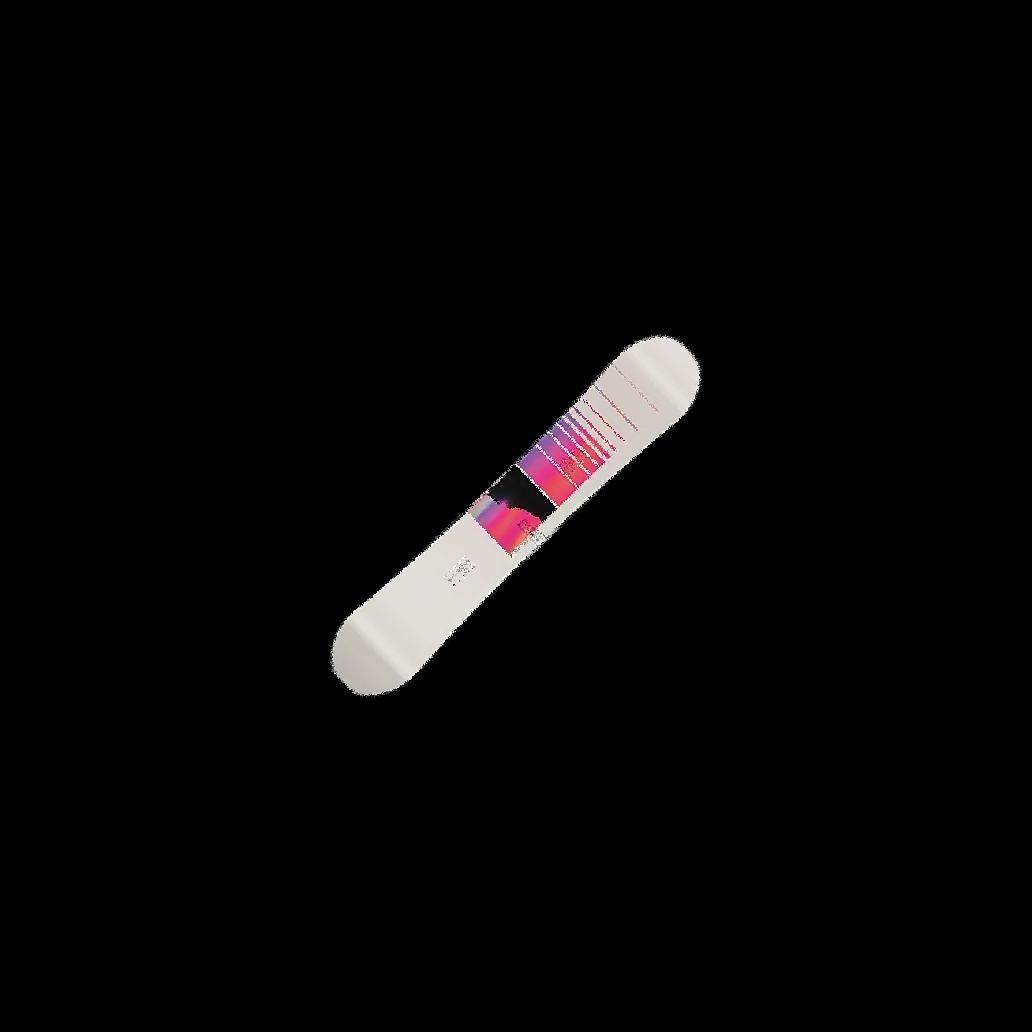Snowboard: (328, 332, 701, 697)
